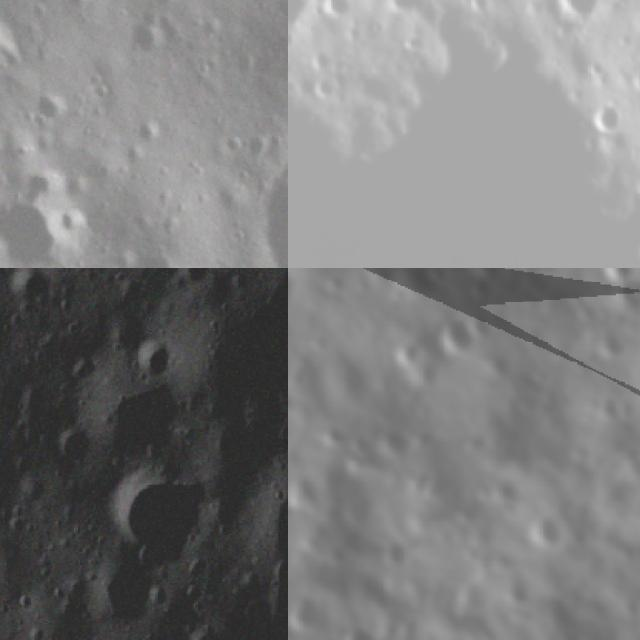crater: (114, 475, 222, 566), (101, 384, 195, 460), (93, 558, 173, 636), (0, 196, 71, 268), (252, 160, 288, 268), (123, 12, 179, 64), (427, 312, 479, 360), (8, 268, 57, 313), (130, 336, 181, 379), (233, 588, 278, 633), (376, 418, 414, 469), (385, 330, 425, 378), (121, 243, 195, 268), (155, 268, 209, 300), (288, 592, 325, 638), (56, 431, 95, 472), (24, 93, 64, 131), (530, 517, 566, 558), (275, 51, 288, 152), (292, 468, 321, 513), (554, 0, 597, 28), (288, 268, 311, 314), (592, 100, 622, 132), (274, 393, 288, 456), (0, 21, 15, 78), (319, 0, 355, 22), (312, 77, 339, 102), (311, 48, 337, 71), (341, 622, 373, 640), (364, 18, 387, 38), (626, 61, 640, 93), (586, 58, 608, 77), (391, 0, 425, 11), (188, 631, 228, 640), (631, 169, 640, 195)
